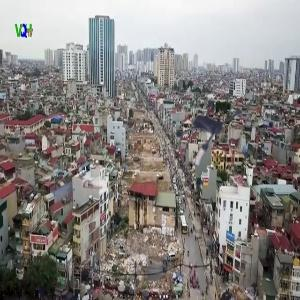drone: (163, 91, 249, 177)
